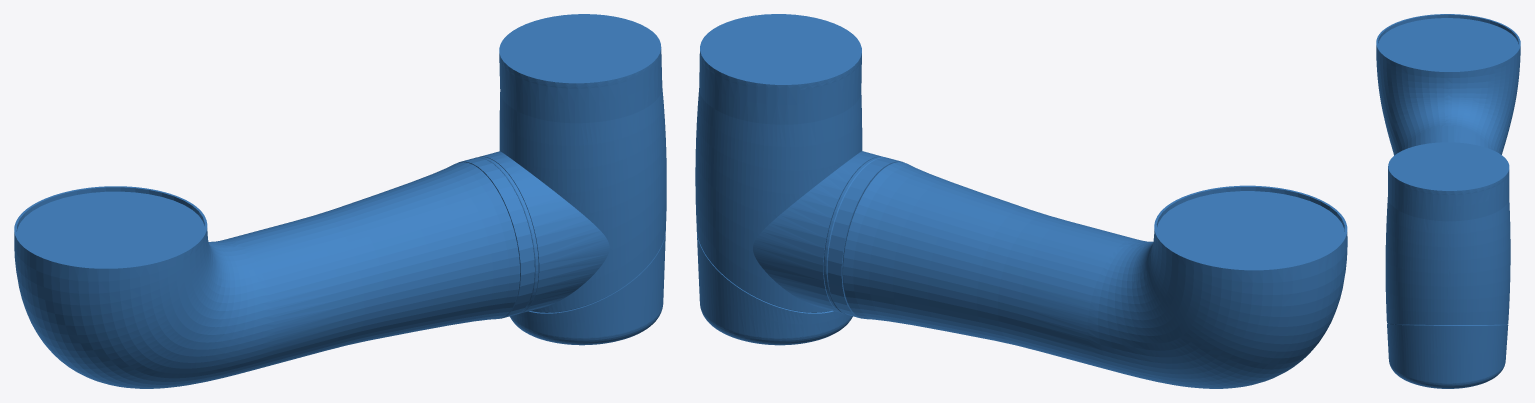
Rendered from JakaZu3Link3.dae.
3 renders of one model, left to right at view 1: azimuth 30°, elevation 25°; view 2: azimuth 150°, elevation 25°; view 3: azimuth 270°, elevation 25°, orthographic. The views are drawn at different scales.
Parts seen in each view (by area): view 1: JakaZu3Link3; view 2: JakaZu3Link3; view 3: JakaZu3Link3.
Part boxes in pixels (x1,y1,x2,y2): JakaZu3Link3: [14, 14, 666, 388]; JakaZu3Link3: [695, 14, 1347, 388]; JakaZu3Link3: [1376, 14, 1520, 388].
Bounding box in the file's own units: 0.3042 × 0.081 × 0.1255.
